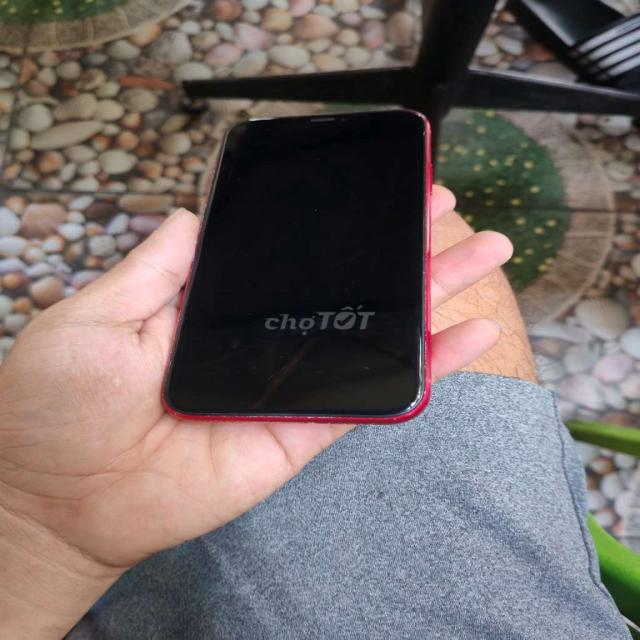gen_x_xs: (164, 110, 429, 422), (165, 110, 429, 421)
scratch: (390, 376, 440, 416), (204, 411, 284, 422), (412, 122, 440, 145), (302, 408, 332, 427)
